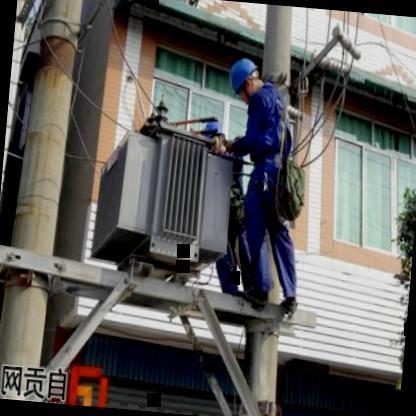helmet: (228, 58, 262, 100), (199, 116, 228, 154)
